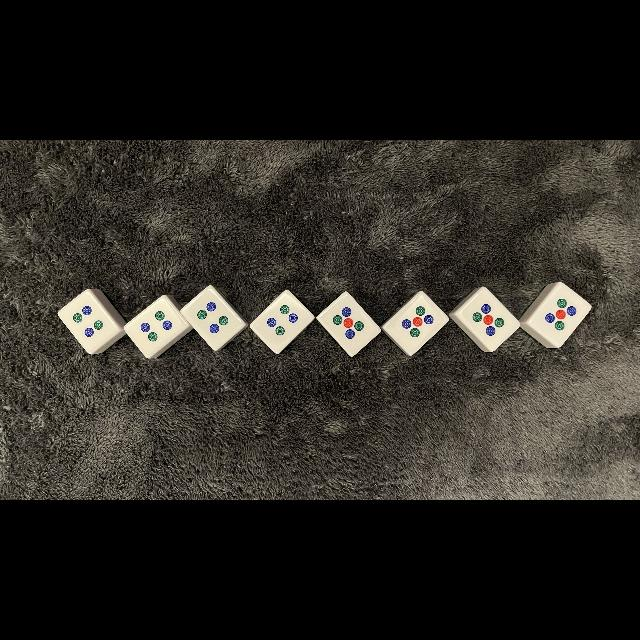d4: (67, 296, 111, 346), (132, 302, 178, 348), (190, 295, 238, 339), (258, 300, 302, 340)
d5: (394, 299, 442, 347), (465, 295, 511, 343), (326, 299, 372, 345), (537, 292, 583, 338)
